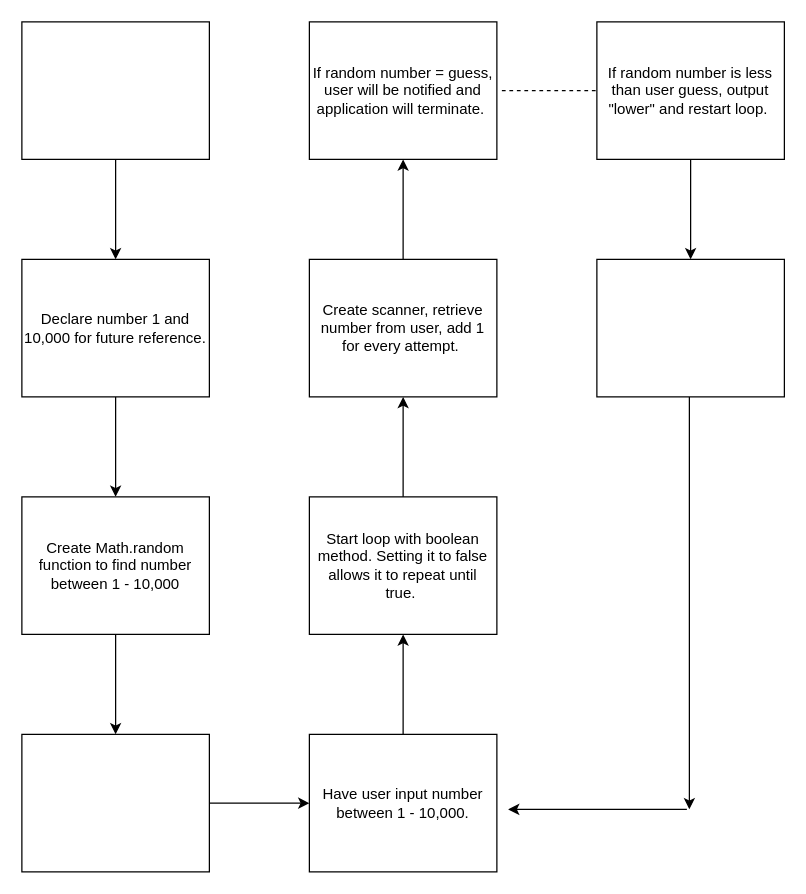
Some shapes in this 806 by 894 pixel diagram are drawn without their labels. Here are the shapes that lost their labels. From the top down, the centre of each, then its label:
(115,90): Create methods and standard classes
(690,327): If random number is greater than user guess, output "higher" and restart loop.
(115,802): Start numberOfAttempts at 0. Later we will increment after every loop.
